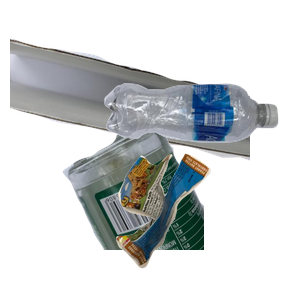cardboard: (10, 35, 250, 188)
glass: (60, 120, 300, 300)
plastic: (102, 81, 300, 216)
trash: (114, 151, 300, 300)
